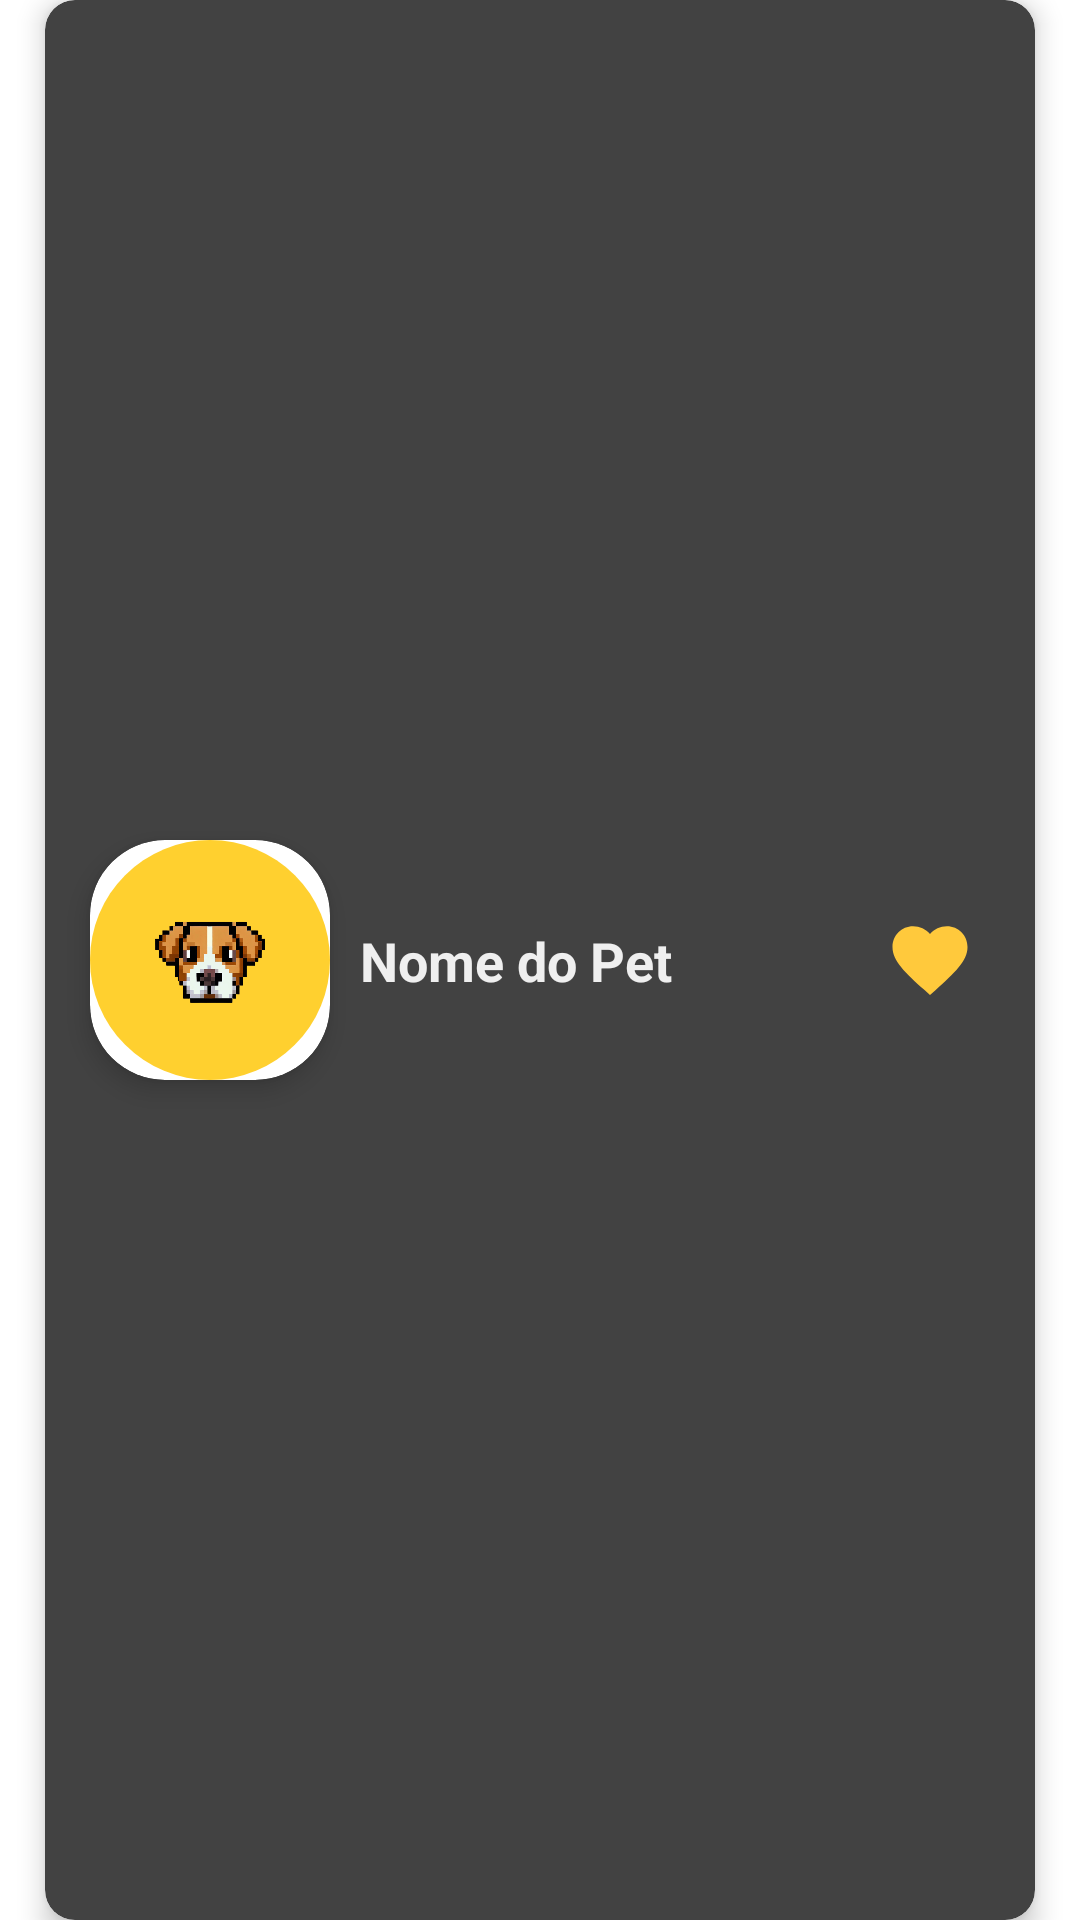

Icon bounding boxes for this 1080*1920 phone screenshot, format box(x1, y1, x2, y2):
favorite: box(892, 926, 968, 995)
